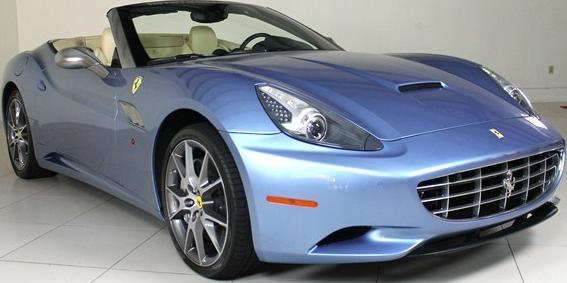front_view: (235, 44, 563, 261)
headlight: (243, 67, 396, 159)
side_glass: (36, 11, 155, 82)
